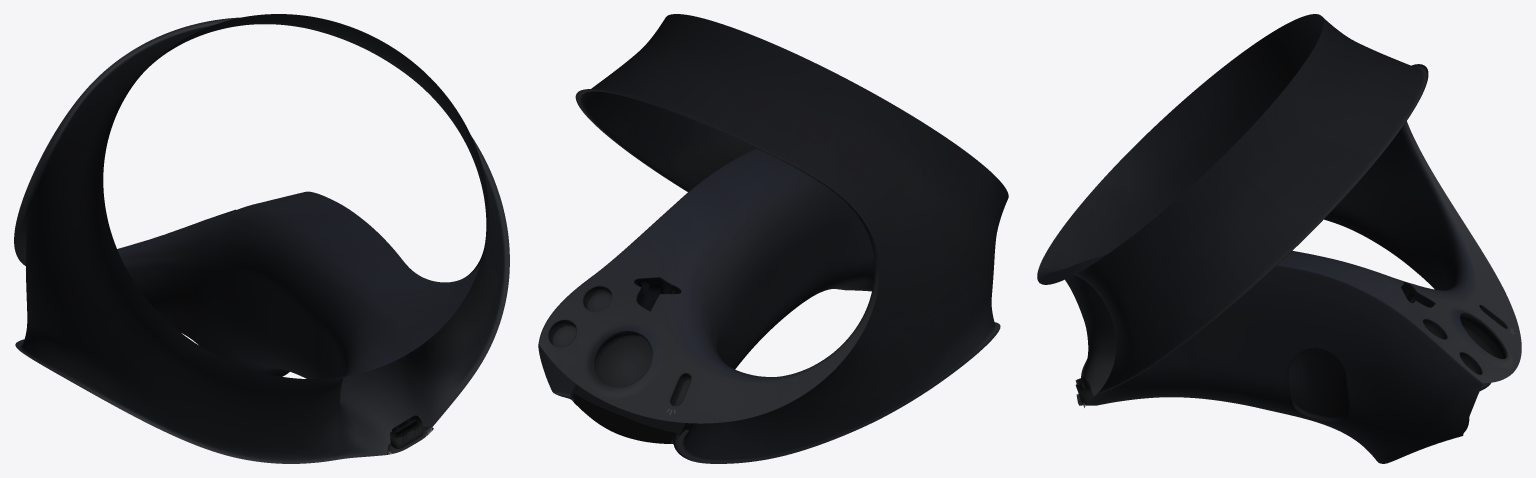
The model's file is playstation_vr2_sense_left_body_inner.obj.
3 views of the same model, side by side, from view 1: azimuth 30°, elevation 25°; view 2: azimuth 150°, elevation 25°; view 3: azimuth 270°, elevation 25° (orthographic).
Visible parts, largest first — view 1: mesh_sensecontroller_inner_L; view 2: mesh_sensecontroller_inner_L; view 3: mesh_sensecontroller_inner_L.
Part boxes in pixels (box(x1,y1,x2,y2)): mesh_sensecontroller_inner_L: box(14, 14, 509, 463); mesh_sensecontroller_inner_L: box(538, 14, 1008, 463); mesh_sensecontroller_inner_L: box(1037, 14, 1521, 463).
Bounding box in the file's own units: 0.1252 × 0.1131 × 0.1266.
Materials: 1 (1 with a texture image).
